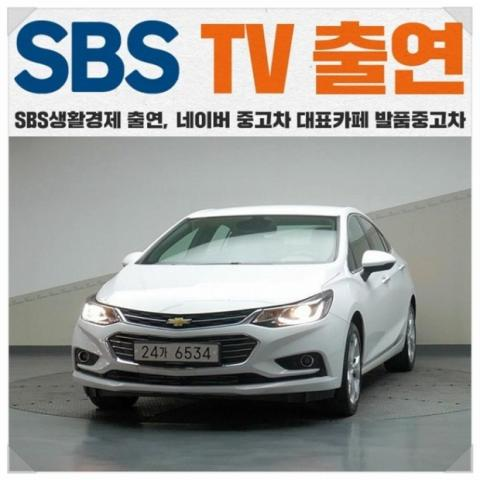LP: (128, 338, 226, 368)
